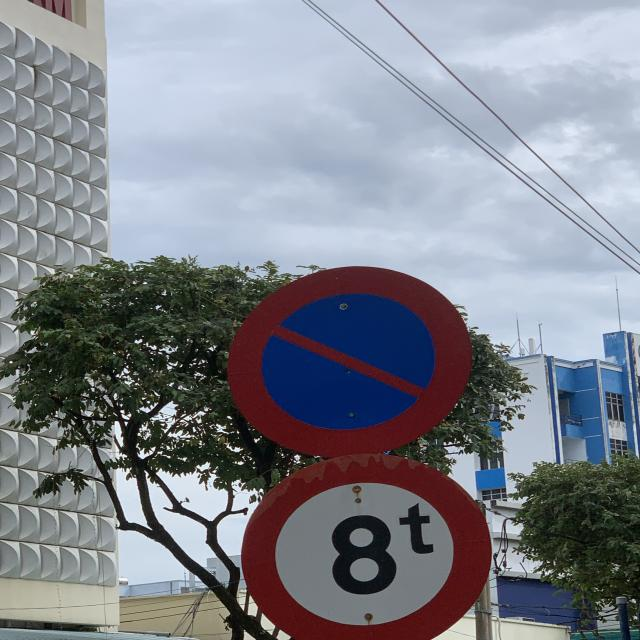Cam_Dau_Xe: (226, 265, 471, 458)
